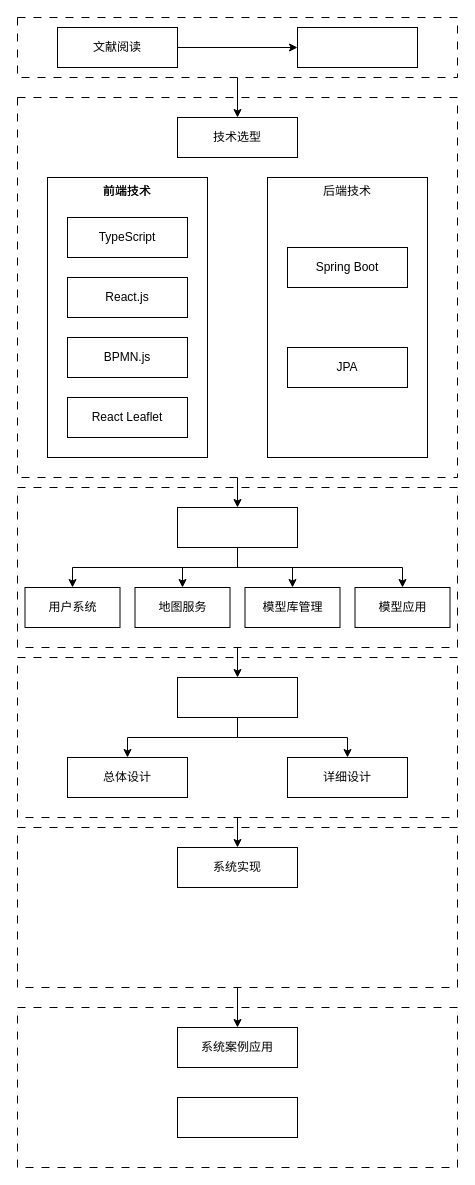
The diagram is 475 pixels wide and 1185 high, and some of its shapes have lost their labels. Each missing label, with the centre of its shape:
"专家咨询" goes at (x=357, y=47).
"河网提取模型工作流" goes at (x=237, y=1117).
"系统设计" goes at (x=237, y=697).
"需求分析" goes at (x=237, y=527).
